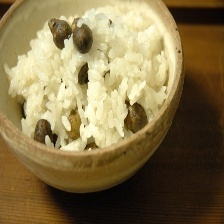rice: (3, 0, 171, 150)
